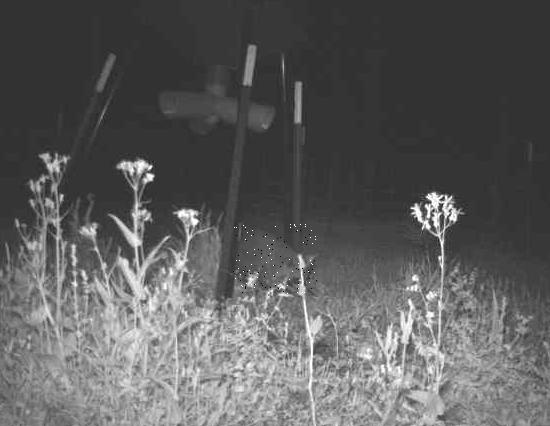Raccoon: (233, 224, 317, 294)
